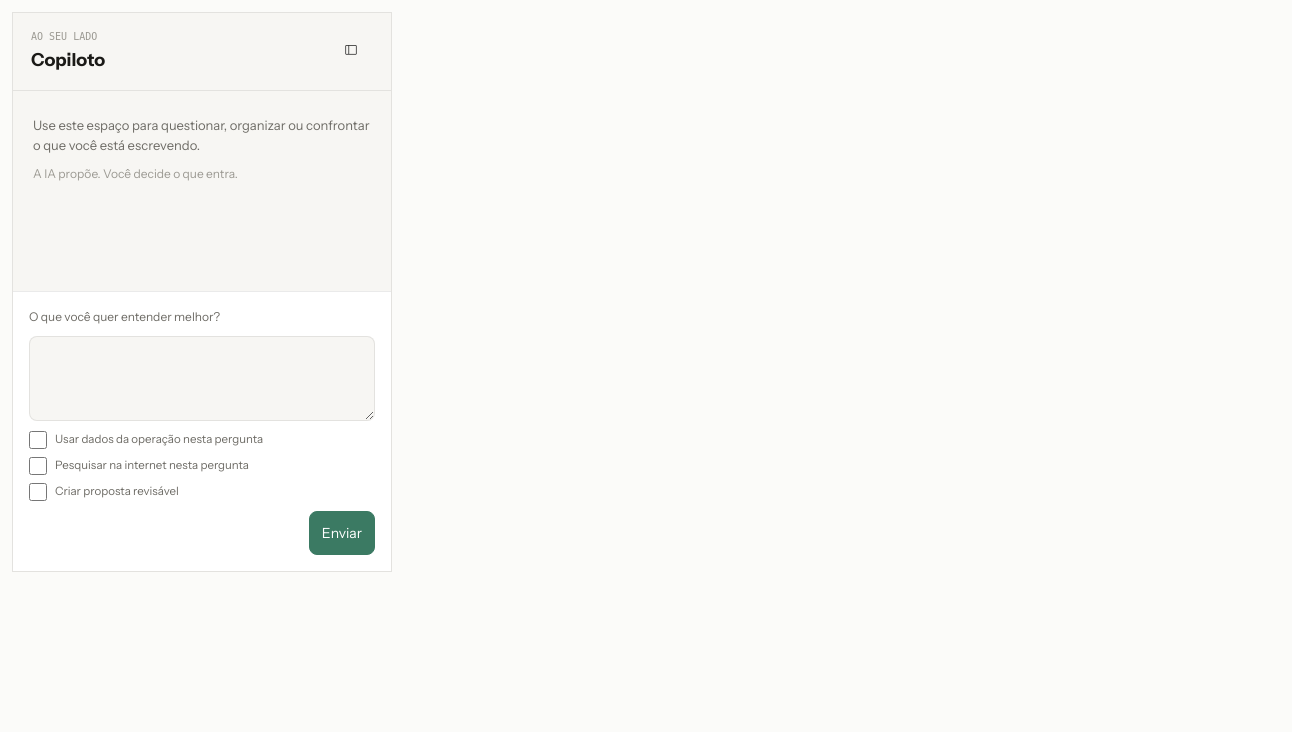
Scenario: StudioCopilot › sends an explicit operational period separately from web-research consent
Click the checkbox labelled "Usar dados da operação nesta pergunta" at (38, 440), box [29,431,47,449]
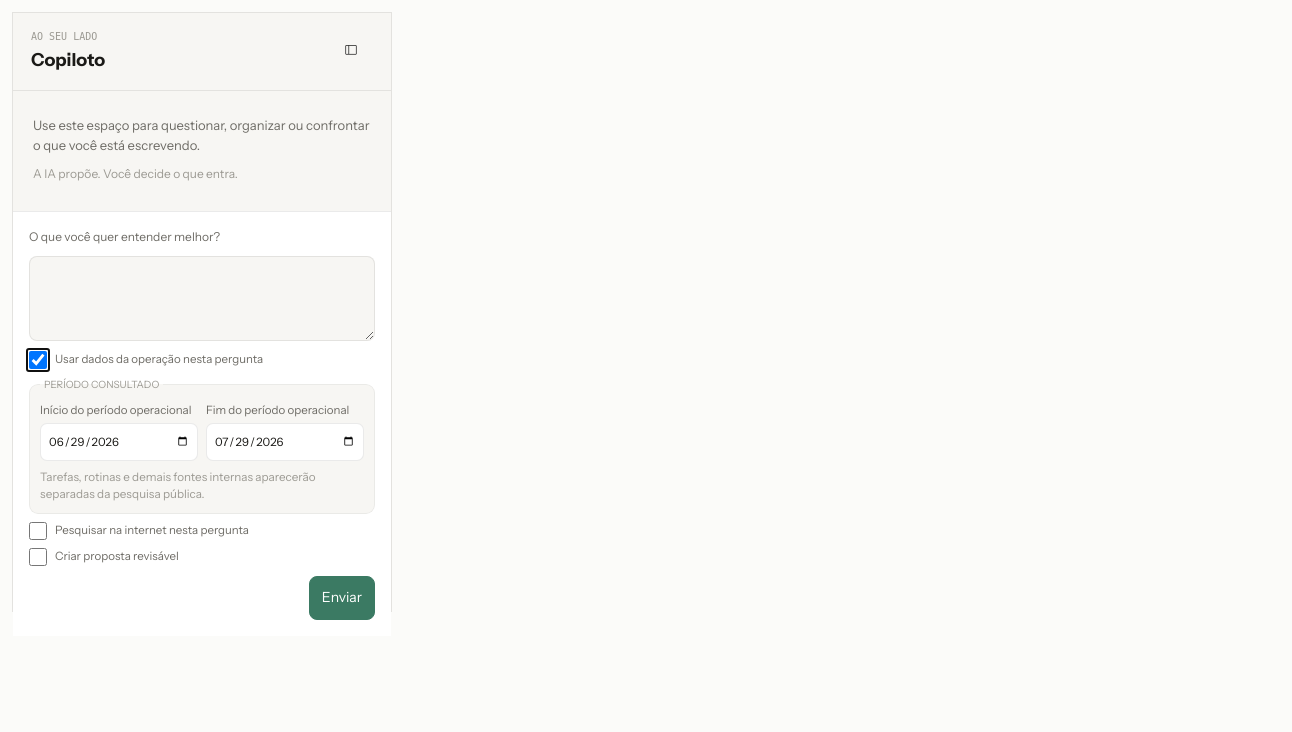
Type "2026-07-01" into the date field labelled "Início do período operacional" at (119, 442), box [40,423,198,461]
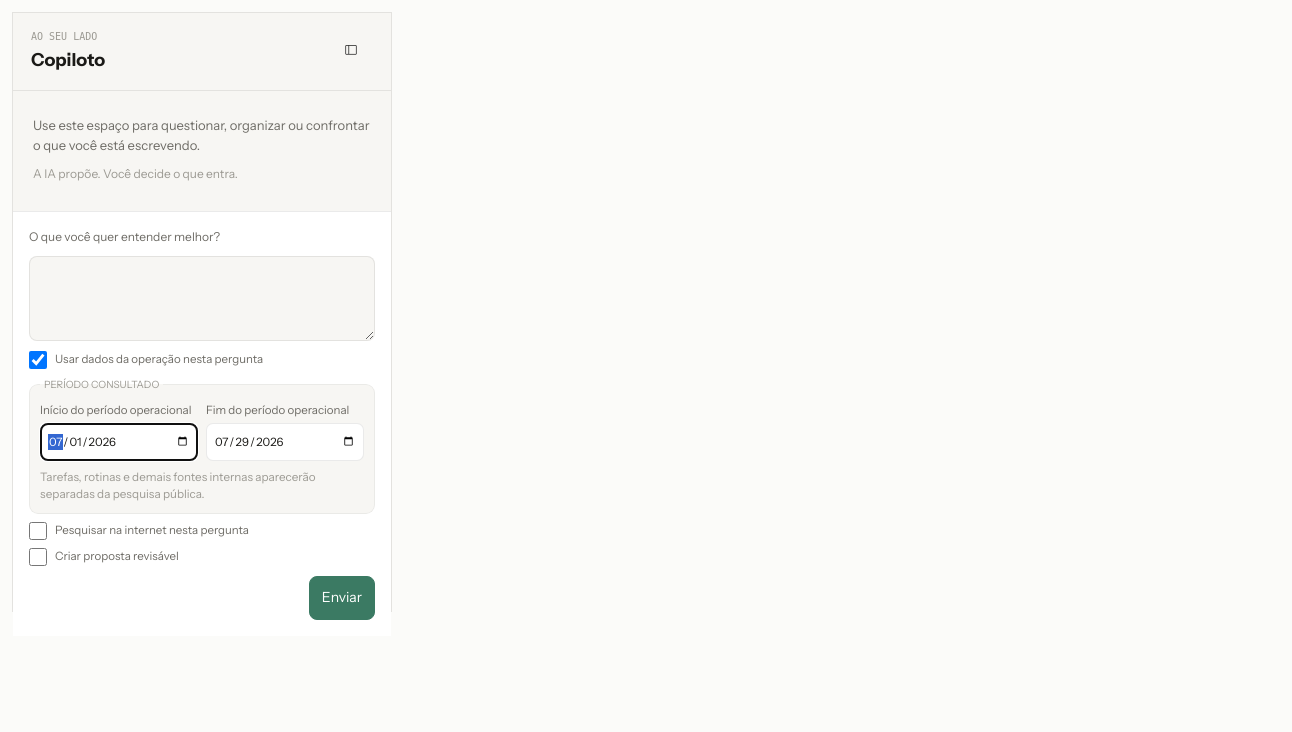
Type "2026-07-14" into the date field labelled "Fim do período operacional" at (285, 442), box [206,423,364,461]
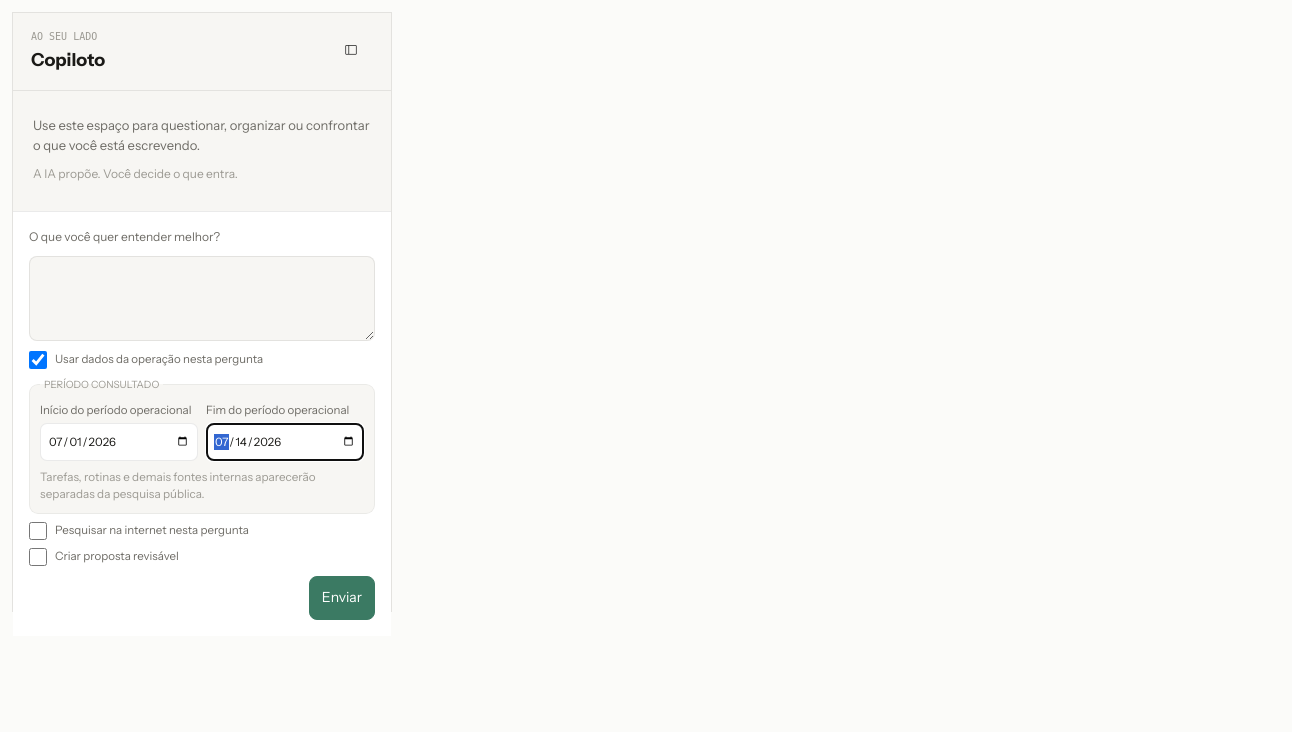
Type "Analise as rotinas." into the text box labelled "O que você quer entender melhor?" at (202, 298), box [29,256,375,341]
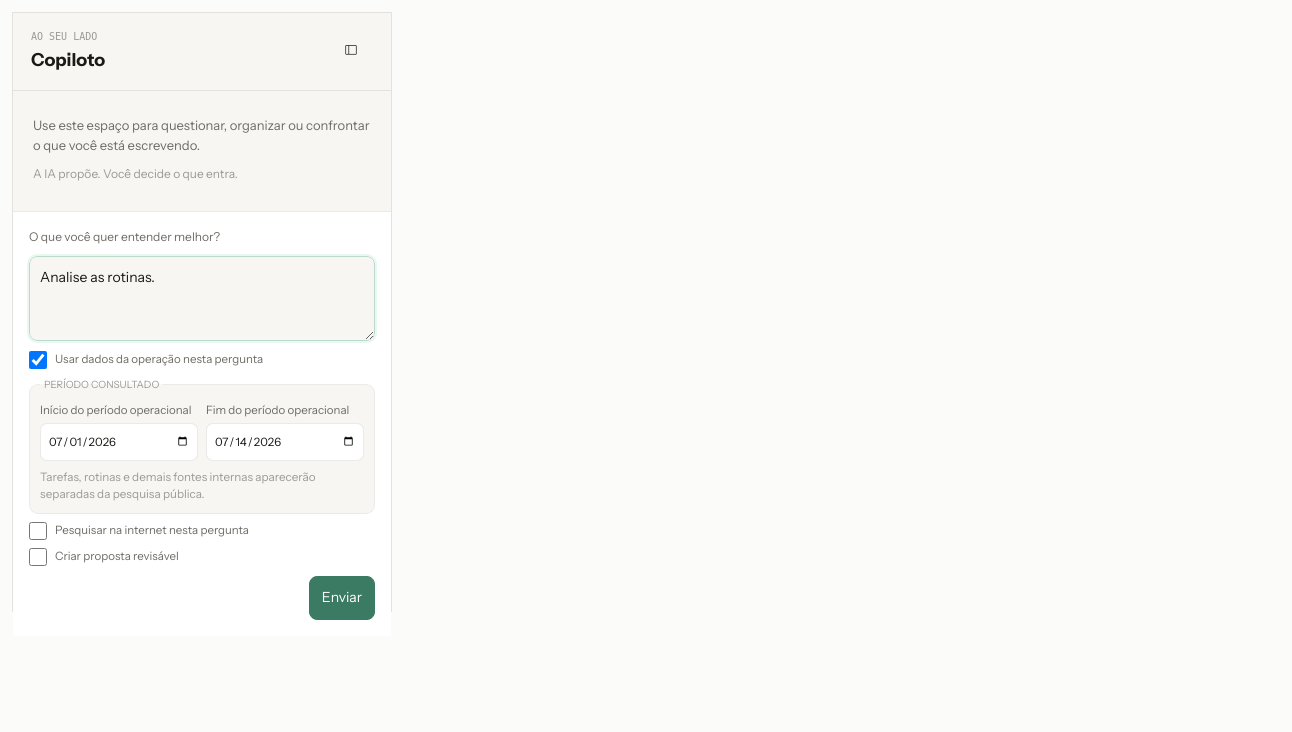
Click the button "Enviar" at (342, 598), box [309,576,375,620]
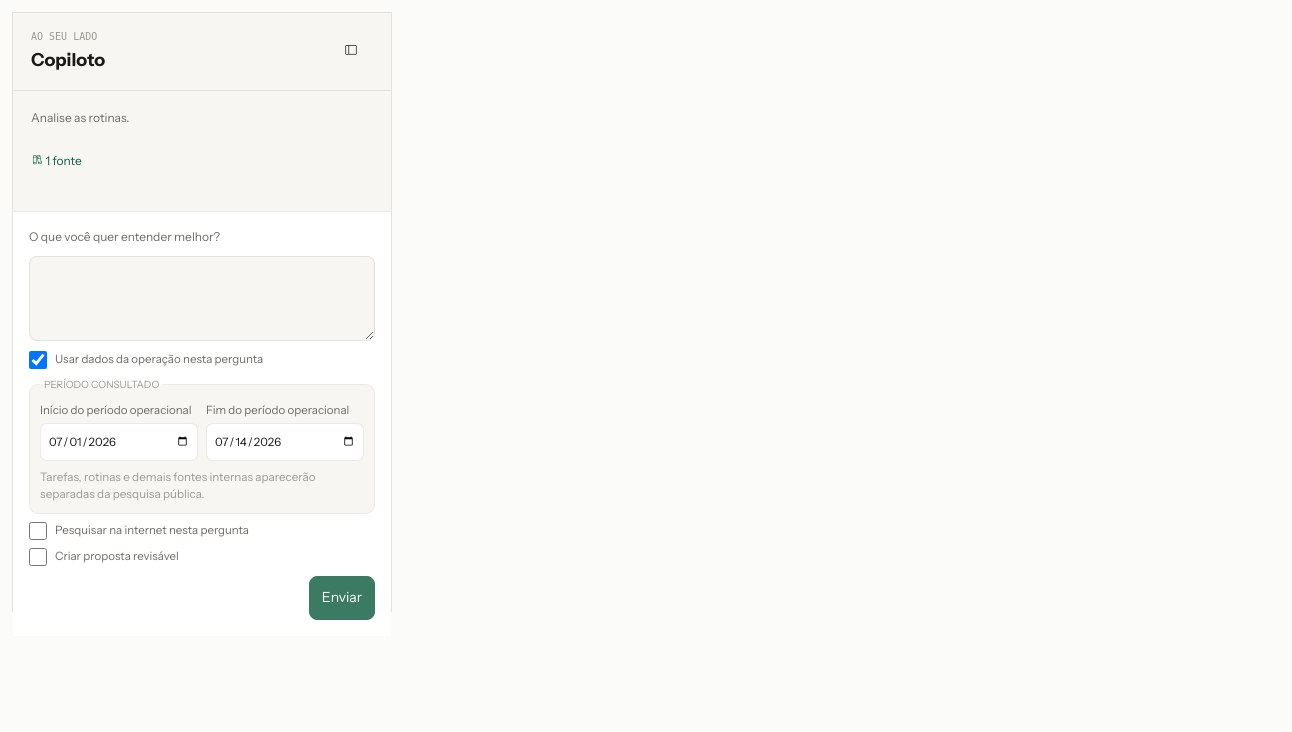
Expected: the checkbox labelled "Pesquisar na internet nesta pergunta" is not checked, [29,522,47,540]
Click the button "1 fonte" at (56, 161), box [31,139,82,183]
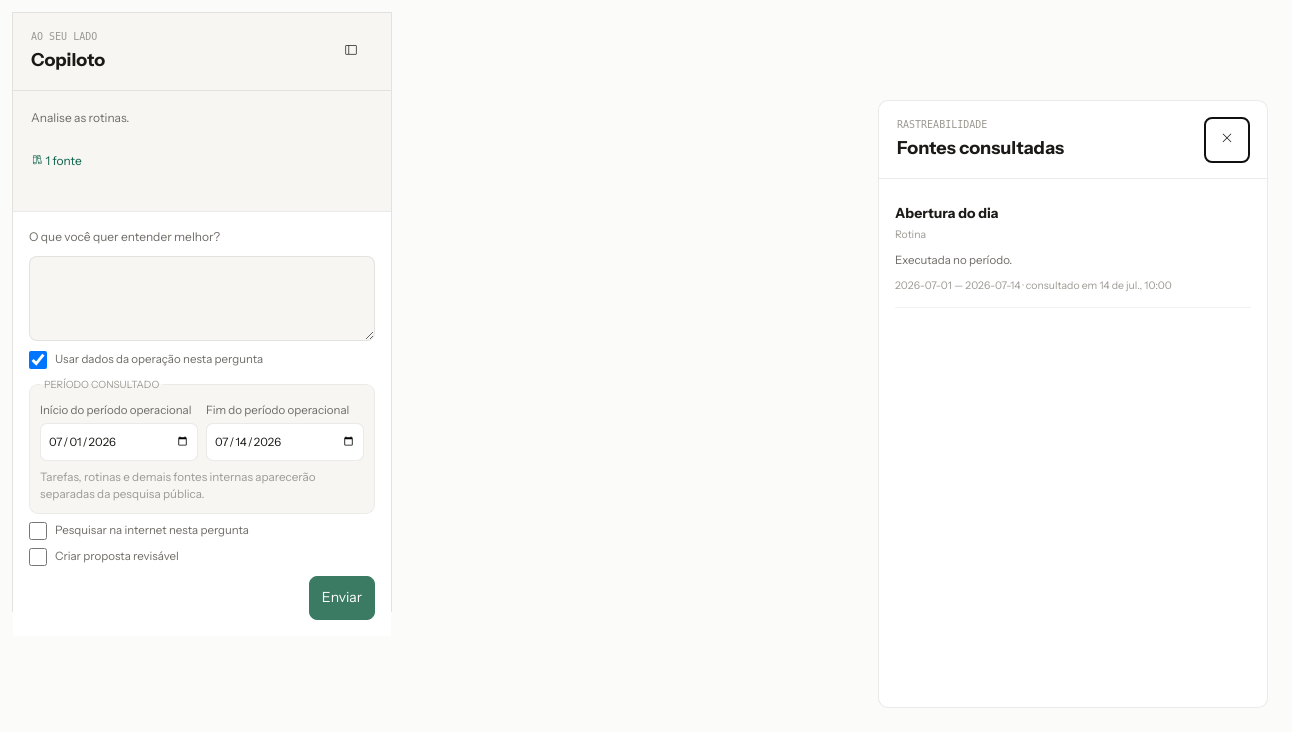
Expected: the element named "Fontes da resposta" shows "2026-07-01 — 2026-07-14", [895,279,1026,292]
